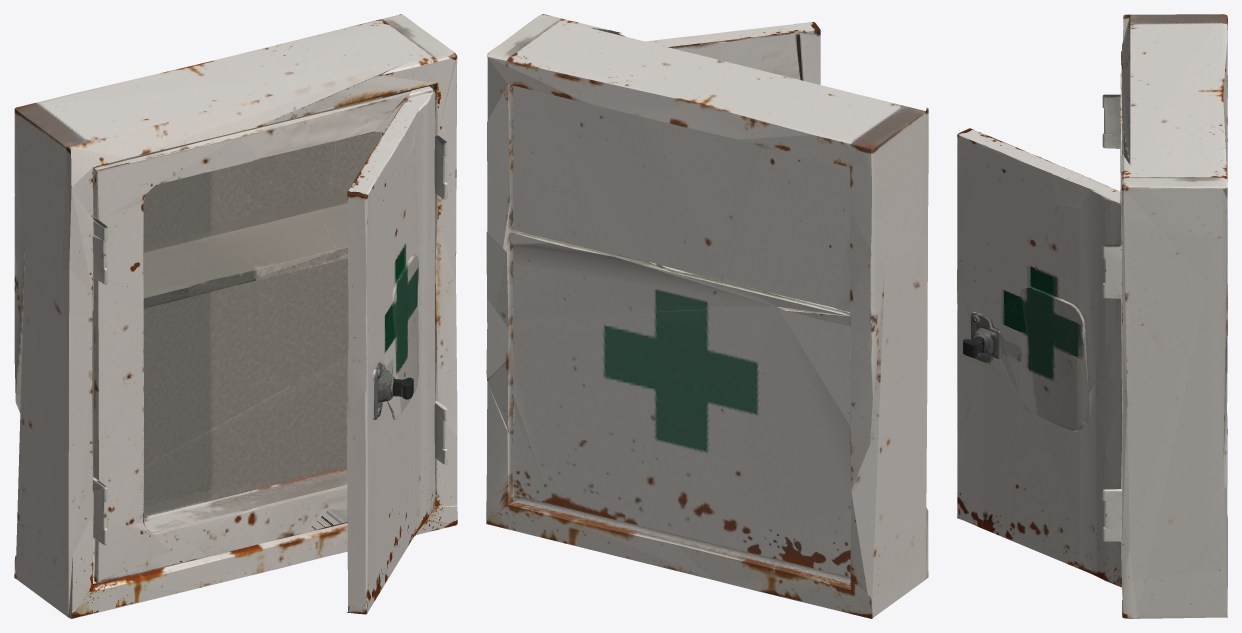
The model's file is cassetta_pronto_soccorso.glb.
3 views of the same model, side by side, from view 1: azimuth 30°, elevation 25°; view 2: azimuth 150°, elevation 25°; view 3: azimuth 270°, elevation 25° (orthographic). The views are drawn at different scales.
Size of the model in its own units: 1.64 by 1.9 by 1.08.
Materials: 1 (1 with a texture image).
